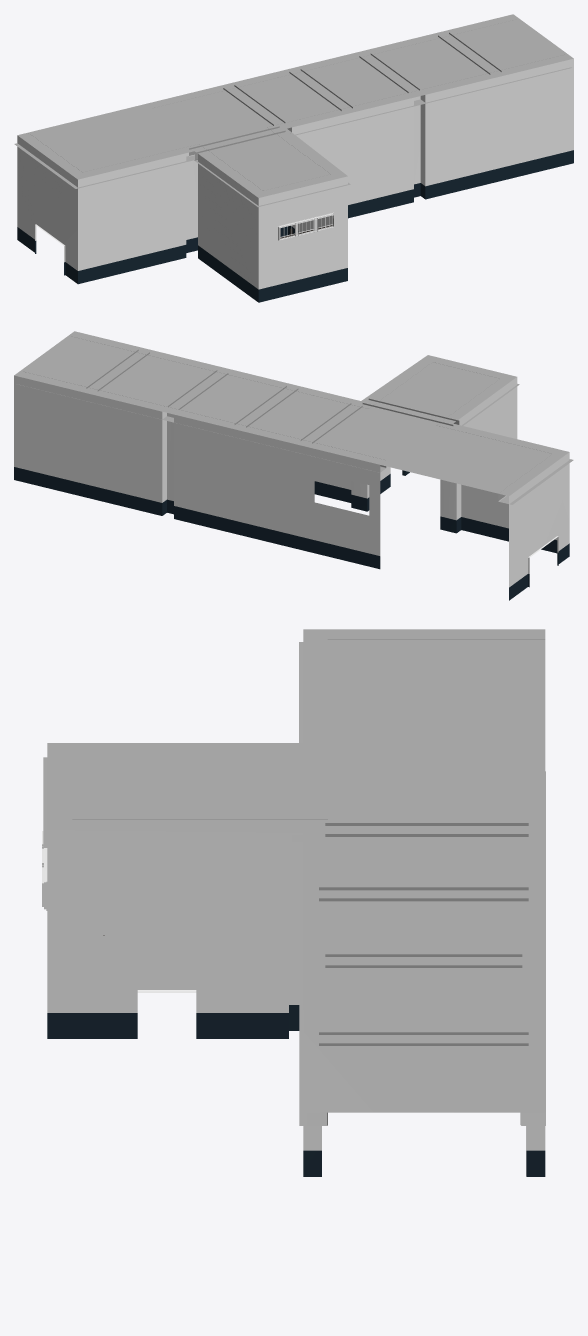
The model's file is SM_H_Building_Tide_Corridor_03_ATLAS.fbx.
3 renders of one model, top to bottom at view 1: azimuth 30°, elevation 25°; view 2: azimuth 150°, elevation 25°; view 3: azimuth 270°, elevation 25°, orthographic. The views are drawn at different scales.
Visible parts, largest first — view 1: SM_H_Building_Tide_Corridor_03_ATLAS; view 2: SM_H_Building_Tide_Corridor_03_ATLAS; view 3: SM_H_Building_Tide_Corridor_03_ATLAS.
Boxes of the visible parts, bbox=[...] form: SM_H_Building_Tide_Corridor_03_ATLAS: bbox=[14, 14, 573, 302]; SM_H_Building_Tide_Corridor_03_ATLAS: bbox=[14, 331, 573, 600]; SM_H_Building_Tide_Corridor_03_ATLAS: bbox=[42, 629, 545, 1176].
Size of the model in its own units: 5504 by 2408 by 1118.
